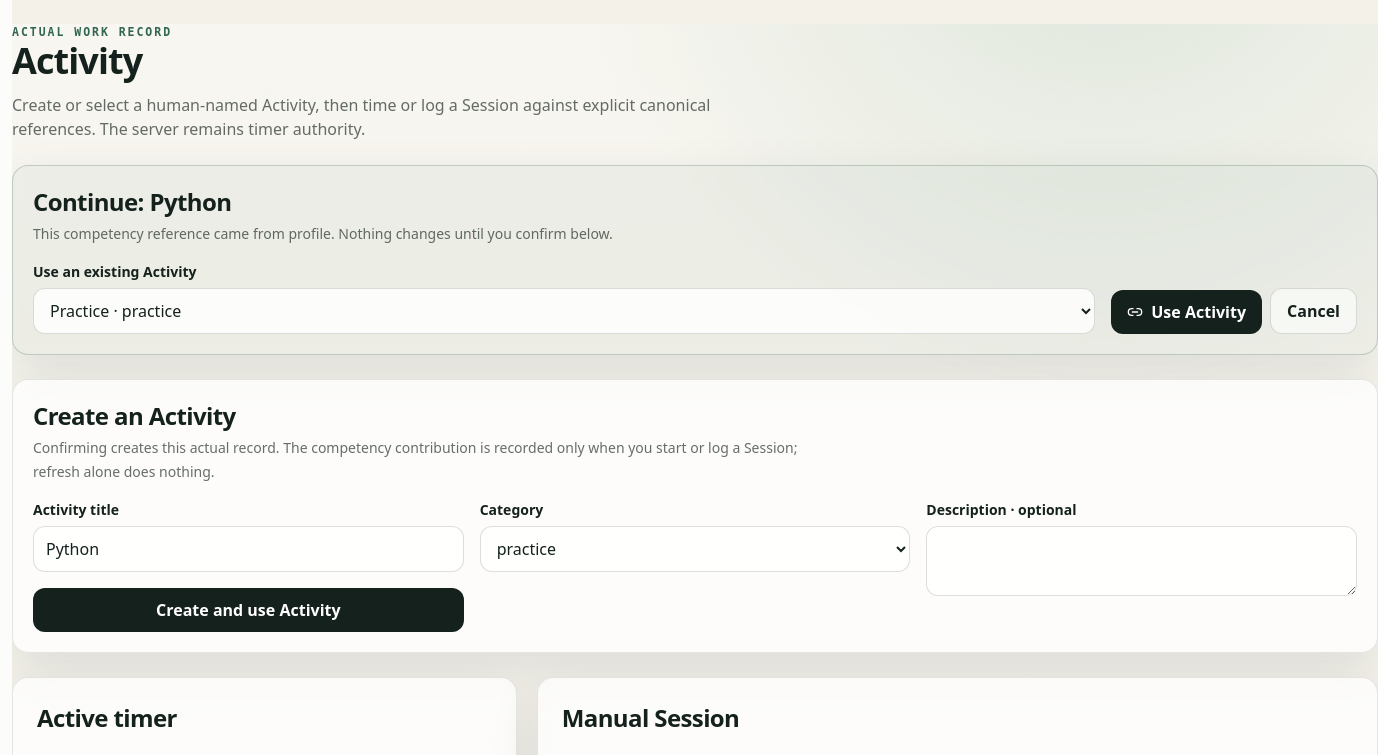
Test: V2 Activity handoff › describes competency handoff as a Session contribution instead of a persisted Activity relation
Click the button "Use Activity" at (1187, 312), box [1111,290,1262,334]
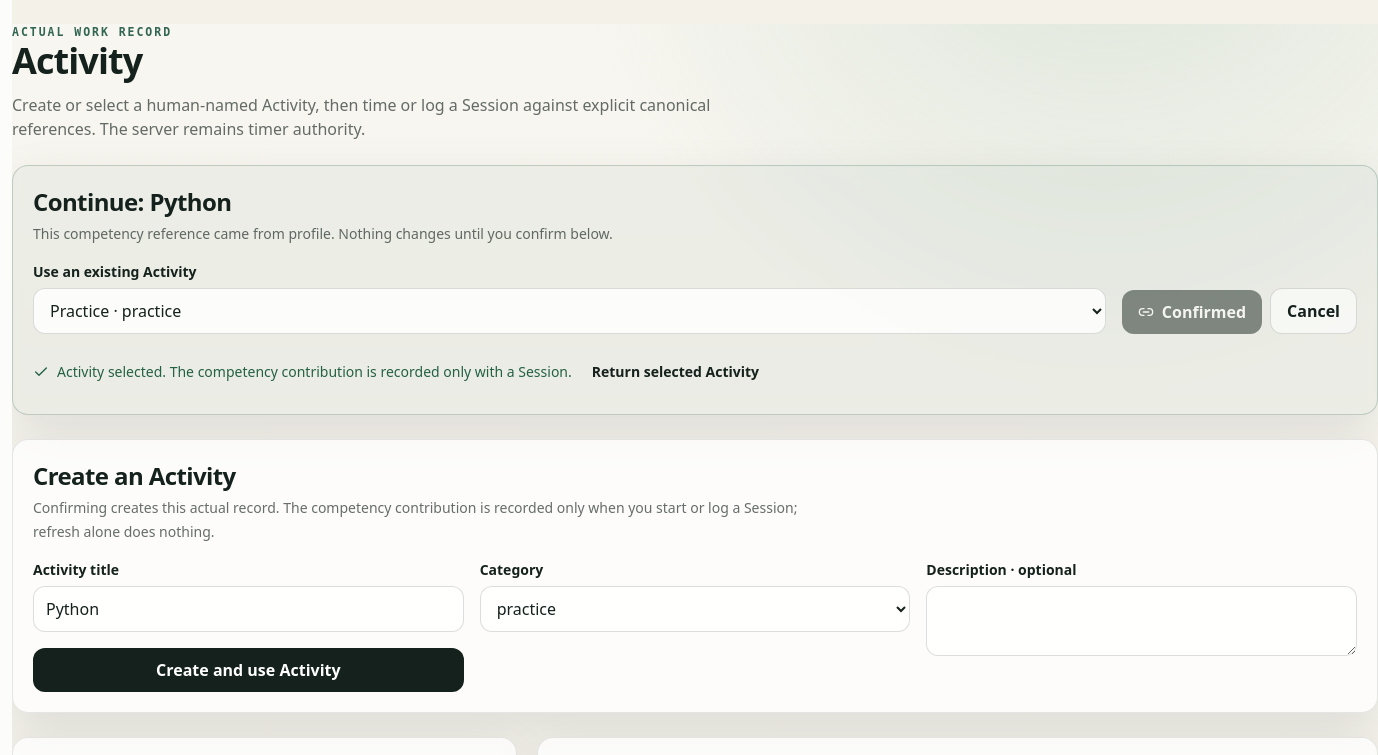
Result: the text "competency contribution is recorded only with a Session" is shown at [57,362,572,381]
